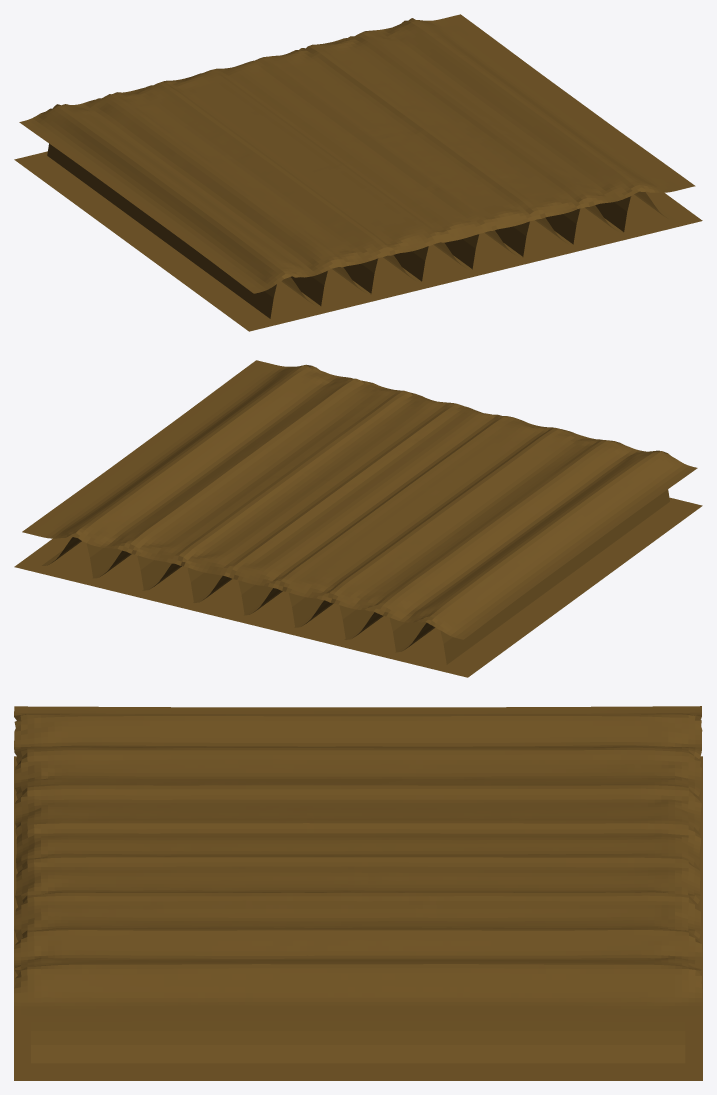
Rendered from Токен из картона квадратный.fbx.
The picture shows the model from 3 angles, top to bottom: view 1: azimuth 30°, elevation 25°; view 2: azimuth 150°, elevation 25°; view 3: azimuth 270°, elevation 25°; orthographic projection. The views are drawn at different scales.
Visible parts, largest first — view 1: BezierCurve.001; view 2: BezierCurve.001; view 3: BezierCurve.001.
Boxes of the visible parts, x1=… form: BezierCurve.001: x1=14, y1=14, x2=702, y2=331; BezierCurve.001: x1=14, y1=360, x2=702, y2=677; BezierCurve.001: x1=14, y1=706, x2=702, y2=1080.
Size of the model in its own units: 0.6168 by 0.5534 by 0.0634.
